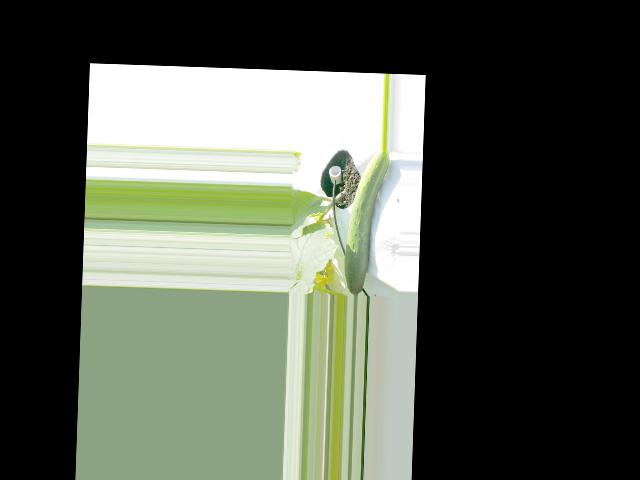cucumber: (343, 147, 390, 296)
